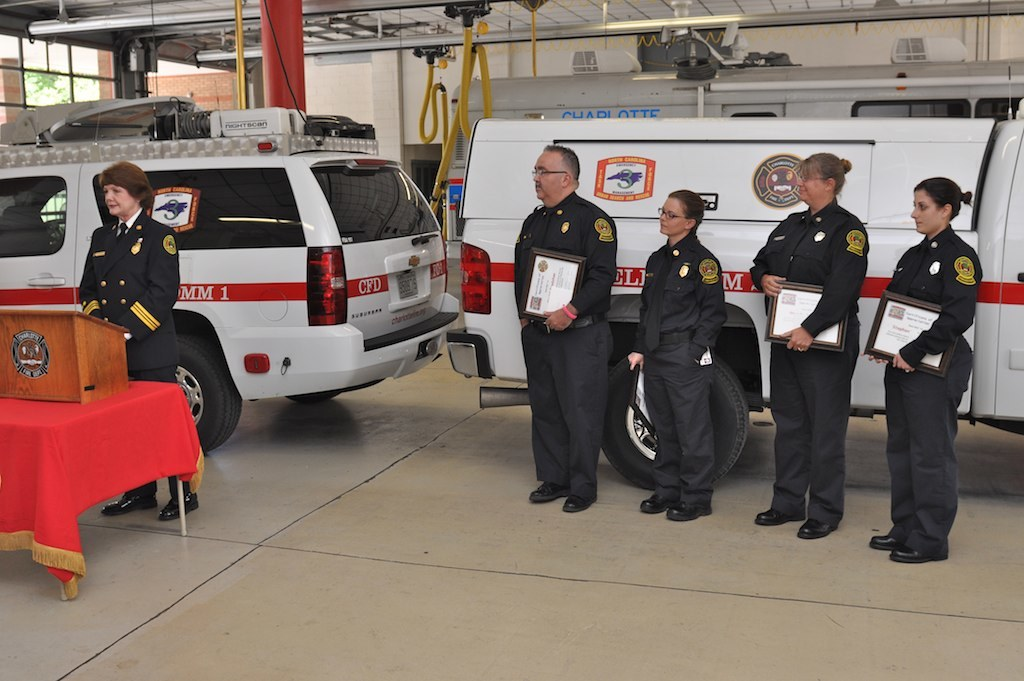Person: (860, 178, 987, 568), (746, 153, 867, 542), (76, 161, 197, 527), (516, 145, 616, 515), (622, 188, 730, 525)
